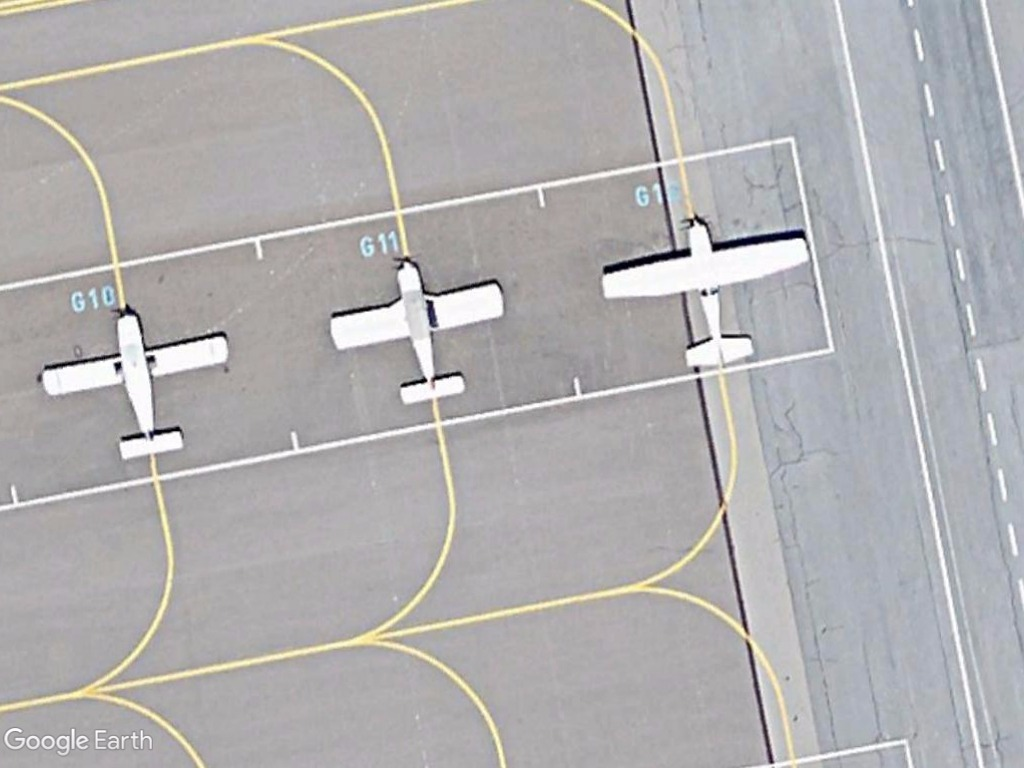trainer: (595, 213, 812, 376), (316, 251, 520, 419), (27, 305, 238, 464)
